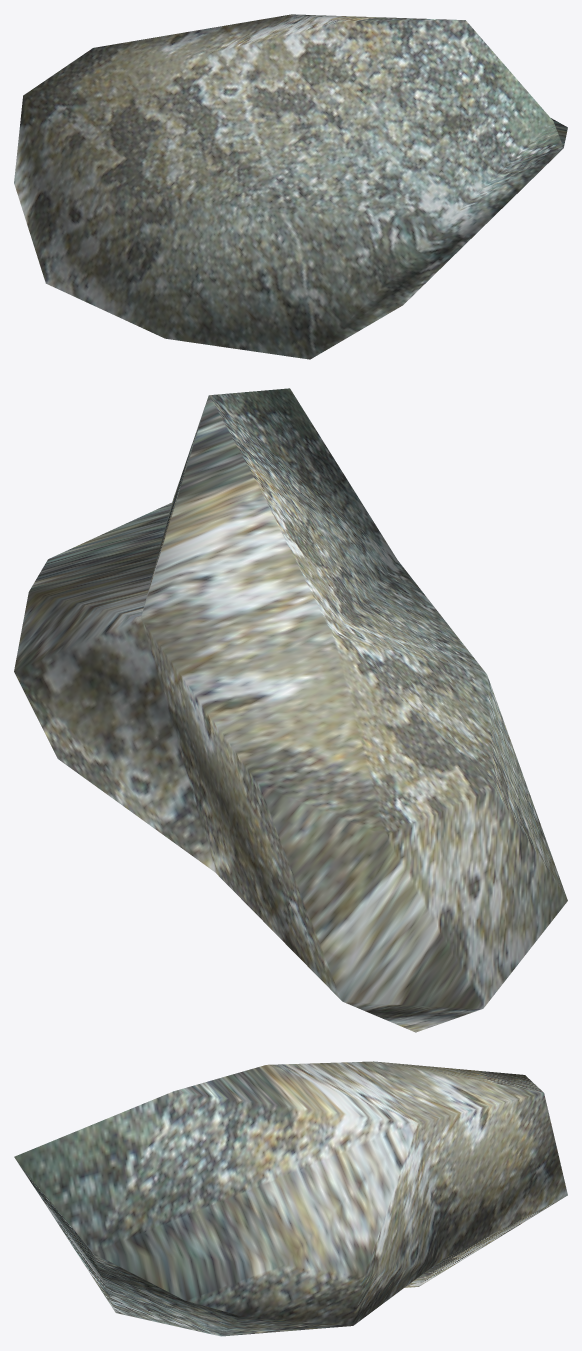
File: rock5.fbx
3 views of the same model, one above another, from view 1: azimuth 30°, elevation 25°; view 2: azimuth 150°, elevation 25°; view 3: azimuth 270°, elevation 25° (orthographic). The views are drawn at different scales.
Parts seen in each view (by area): view 1: Cube; view 2: Cube; view 3: Cube.
Part boxes in pixels (x1,y1,x2,y2): Cube: (14,14,567,359); Cube: (14,388,567,1032); Cube: (14,1061,567,1336).
Bounding box in the file's own units: 146 × 102 × 154.
